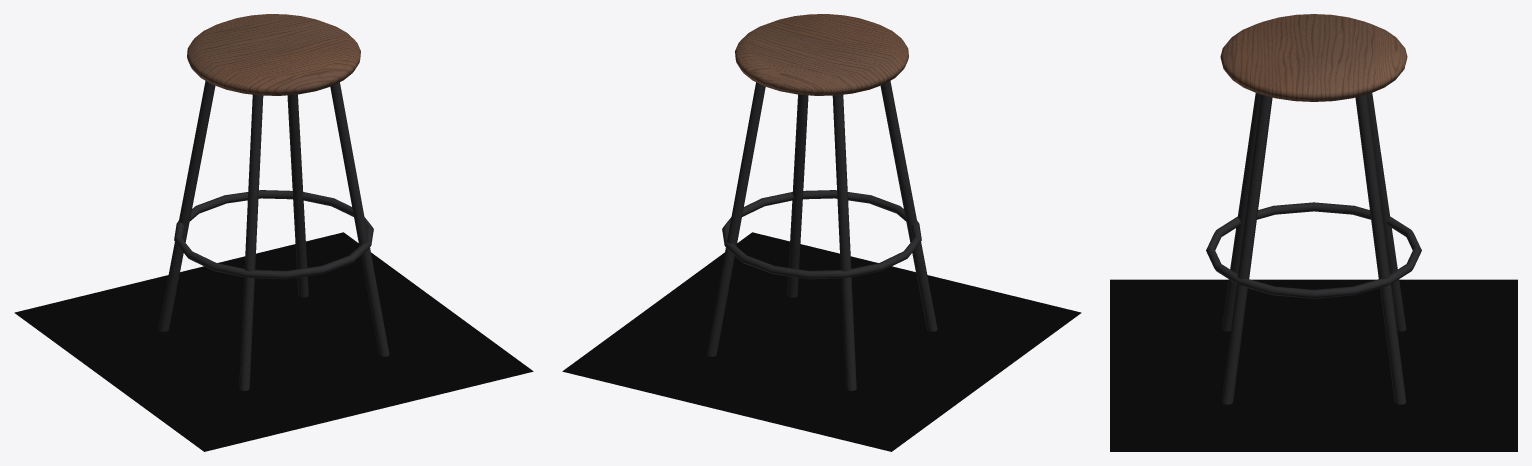
Rendered from bar_stool.glb.
3 views of the same model, side by side, from view 1: azimuth 30°, elevation 25°; view 2: azimuth 150°, elevation 25°; view 3: azimuth 270°, elevation 25° (orthographic). The views are drawn at different scales.
Visible parts, largest first — view 1: bar_stool_Shadow, bar_stool_LOD0; view 2: bar_stool_Shadow, bar_stool_LOD0; view 3: bar_stool_Shadow, bar_stool_LOD0.
Boxes of the visible parts, x1,y1,x2,y2 form: bar_stool_Shadow: (14,232,533,451); bar_stool_LOD0: (158,14,389,390); bar_stool_Shadow: (562,232,1081,451); bar_stool_LOD0: (706,14,937,390); bar_stool_Shadow: (1110,279,1517,451); bar_stool_LOD0: (1206,14,1421,404).
Size of what is drawn, in the model's own units: 0.7655 by 0.6619 by 0.7655.
3 materials, 2 textured.
